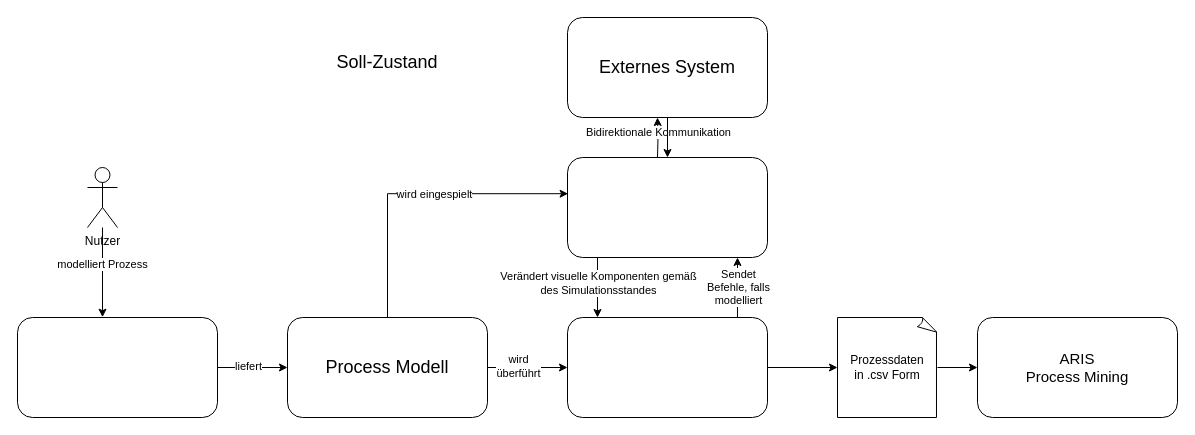
Some shapes in this 1195 by 435 pixel diagram are drawn without their labels. Each missing label, with the centre of its shape:
"ARIS Designer" belongs at pixel 117 367.
"ARIS Simulationsplatform" belongs at pixel 667 367.
"Schnittstelle an externe Systeme" belongs at pixel 667 207.
